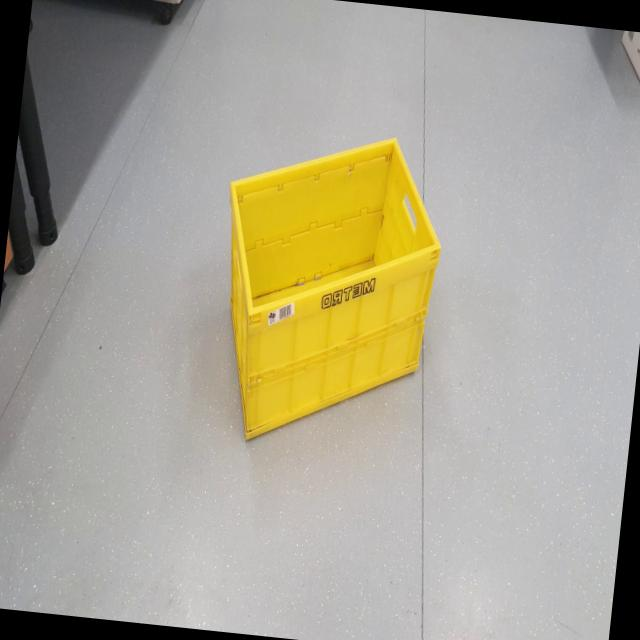box: (194, 114, 468, 481)
